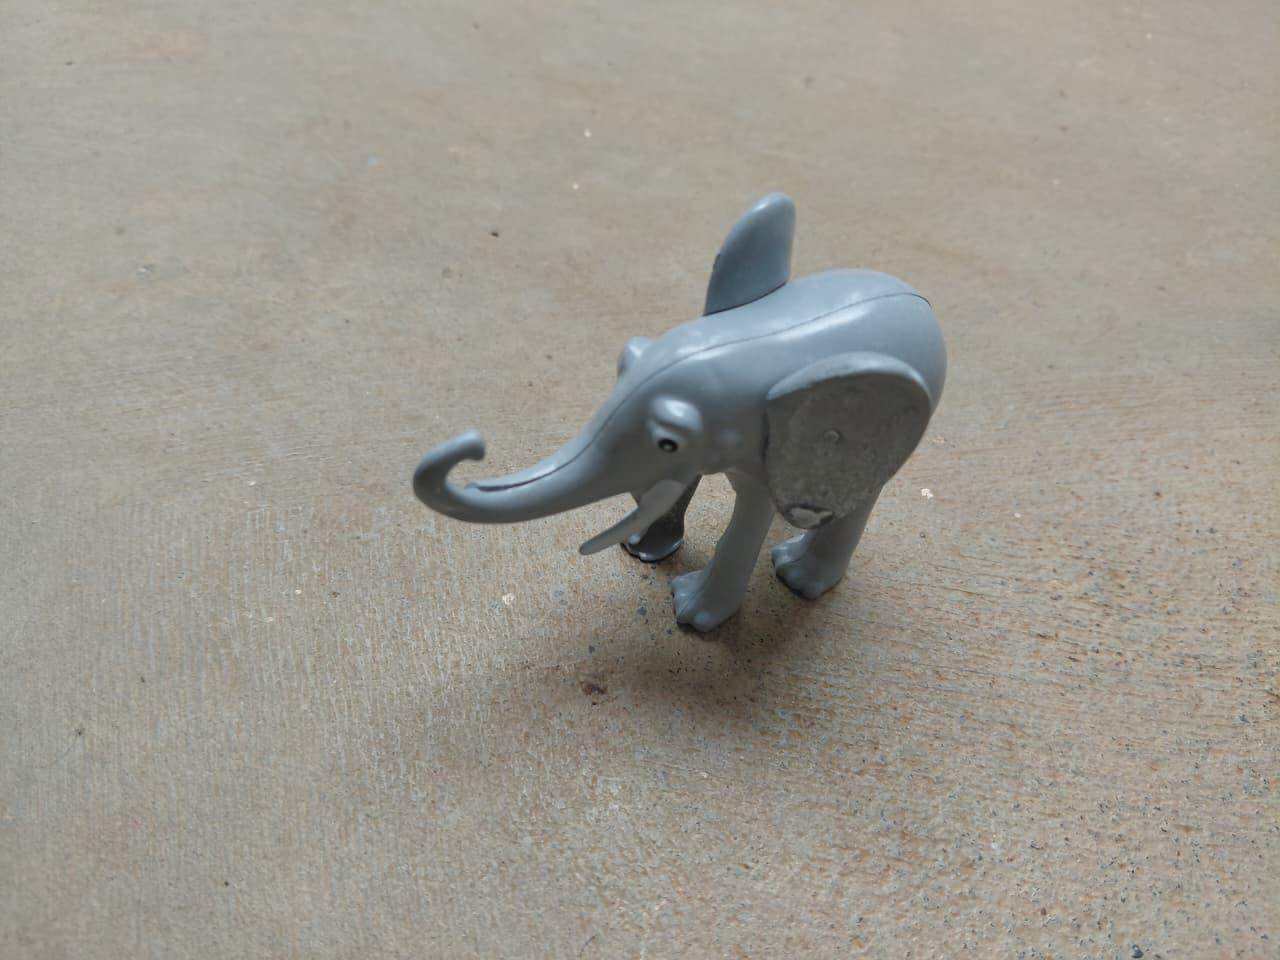elephant: (402, 189, 955, 639)
